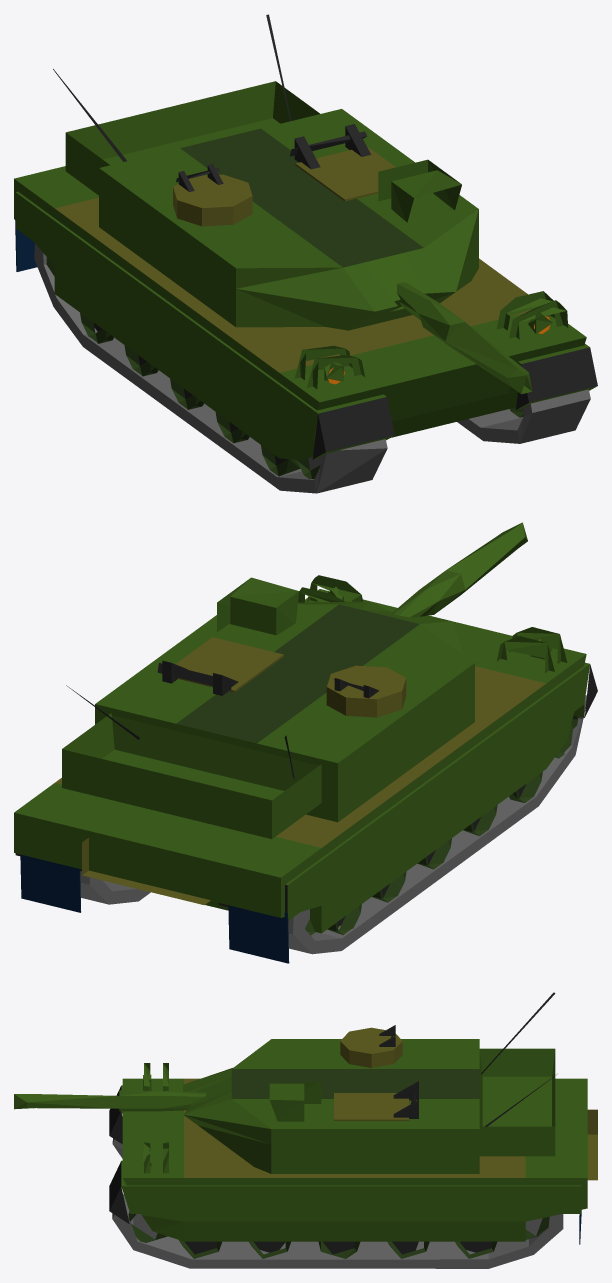
Rendered from Tank.glb.
3 views of the same model, one above another, from view 1: azimuth 30°, elevation 25°; view 2: azimuth 150°, elevation 25°; view 3: azimuth 270°, elevation 25° (orthographic). The views are drawn at different scales.
Parts seen in each view (by area): view 1: Super_Tank; view 2: Super_Tank; view 3: Super_Tank.
Part boxes in pixels (x1,y1,x2,y2): Super_Tank: [14, 14, 597, 493]; Super_Tank: [14, 522, 597, 963]; Super_Tank: [14, 992, 597, 1268].
Size of the model in its own units: 1.87 by 1.6 by 4.56.
